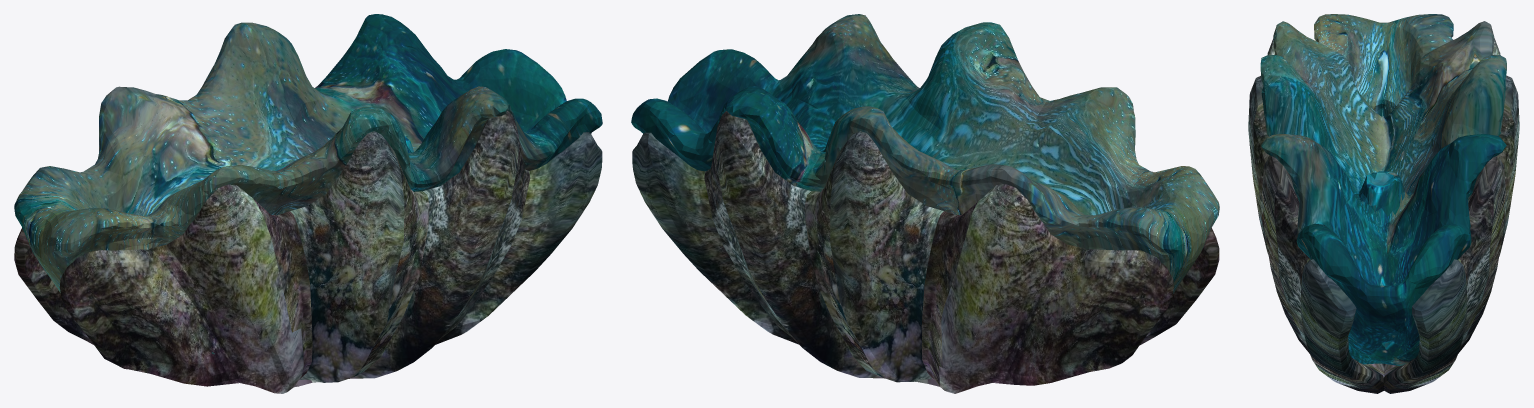
File: tridacna-gigas.glb
3 renders of one model, left to right at view 1: azimuth 30°, elevation 25°; view 2: azimuth 150°, elevation 25°; view 3: azimuth 270°, elevation 25°, orthographic. The views are drawn at different scales.
Visible parts, largest first — view 1: clam0; view 2: clam0; view 3: clam0.
Part boxes in pixels (x1=…): clam0: x1=14, y1=14, x2=602, y2=393; clam0: x1=631, y1=14, x2=1219, y2=393; clam0: x1=1248, y1=14, x2=1519, y2=393.
Size of what is drawn, in the model's own units: 1.11 by 0.6249 by 0.5094.
2 materials, 2 textured.
